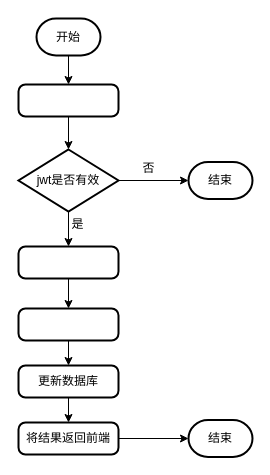
The diagram is 270 pixels wide and 475 high, and some of its shapes have lost their labels. Each missing label, with the centre of its shape:
"将头像图片储存至COS" belongs at (x=68, y=324).
"生成随机文件名" belongs at (x=68, y=262).
"用户请求修改头像" belongs at (x=68, y=100).
